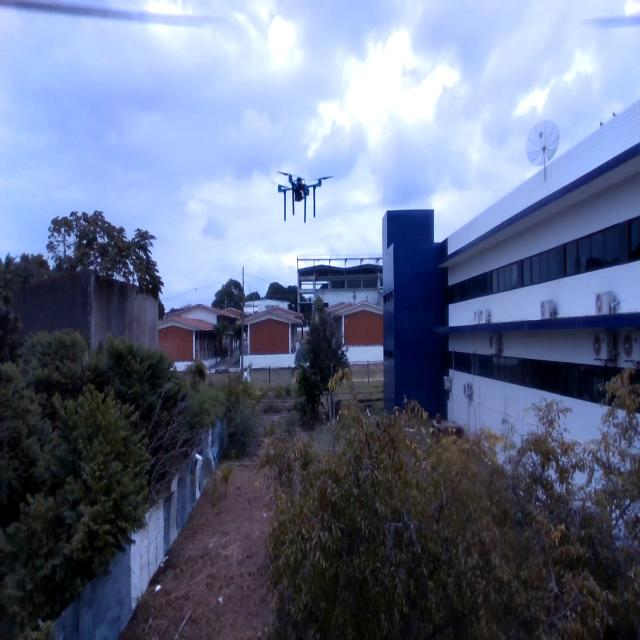-uav-: (274, 151, 334, 236)
